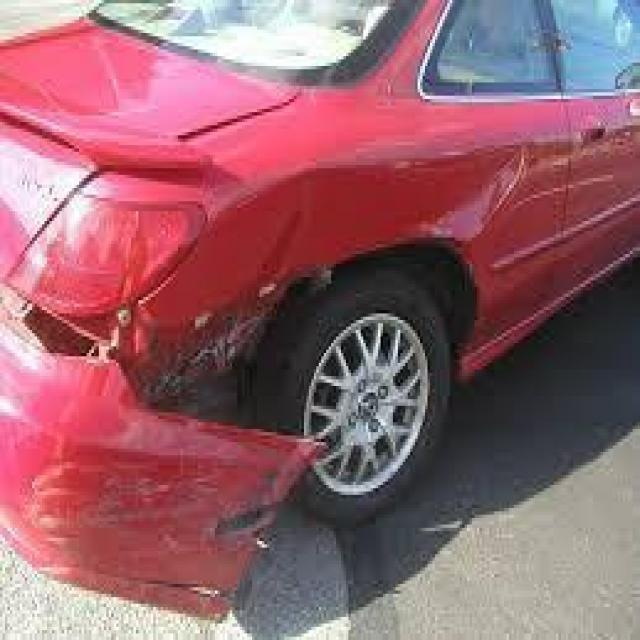damaged: (2, 264, 322, 610), (299, 138, 529, 258)
